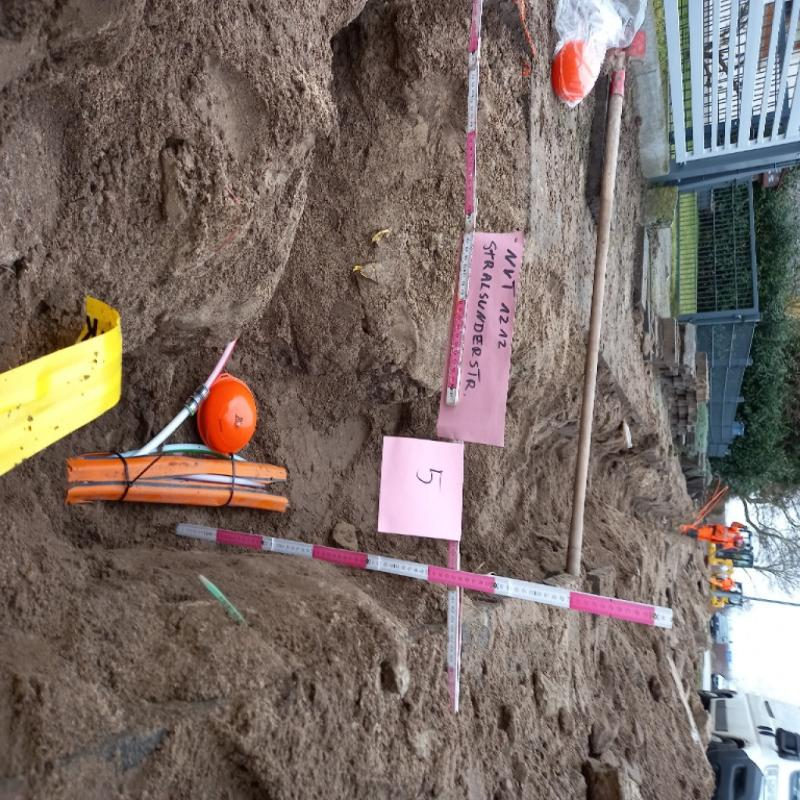Kugelmarker: (199, 374, 254, 453), (550, 41, 586, 105)
Orang-Speednetrohrchen: (66, 458, 286, 513)
